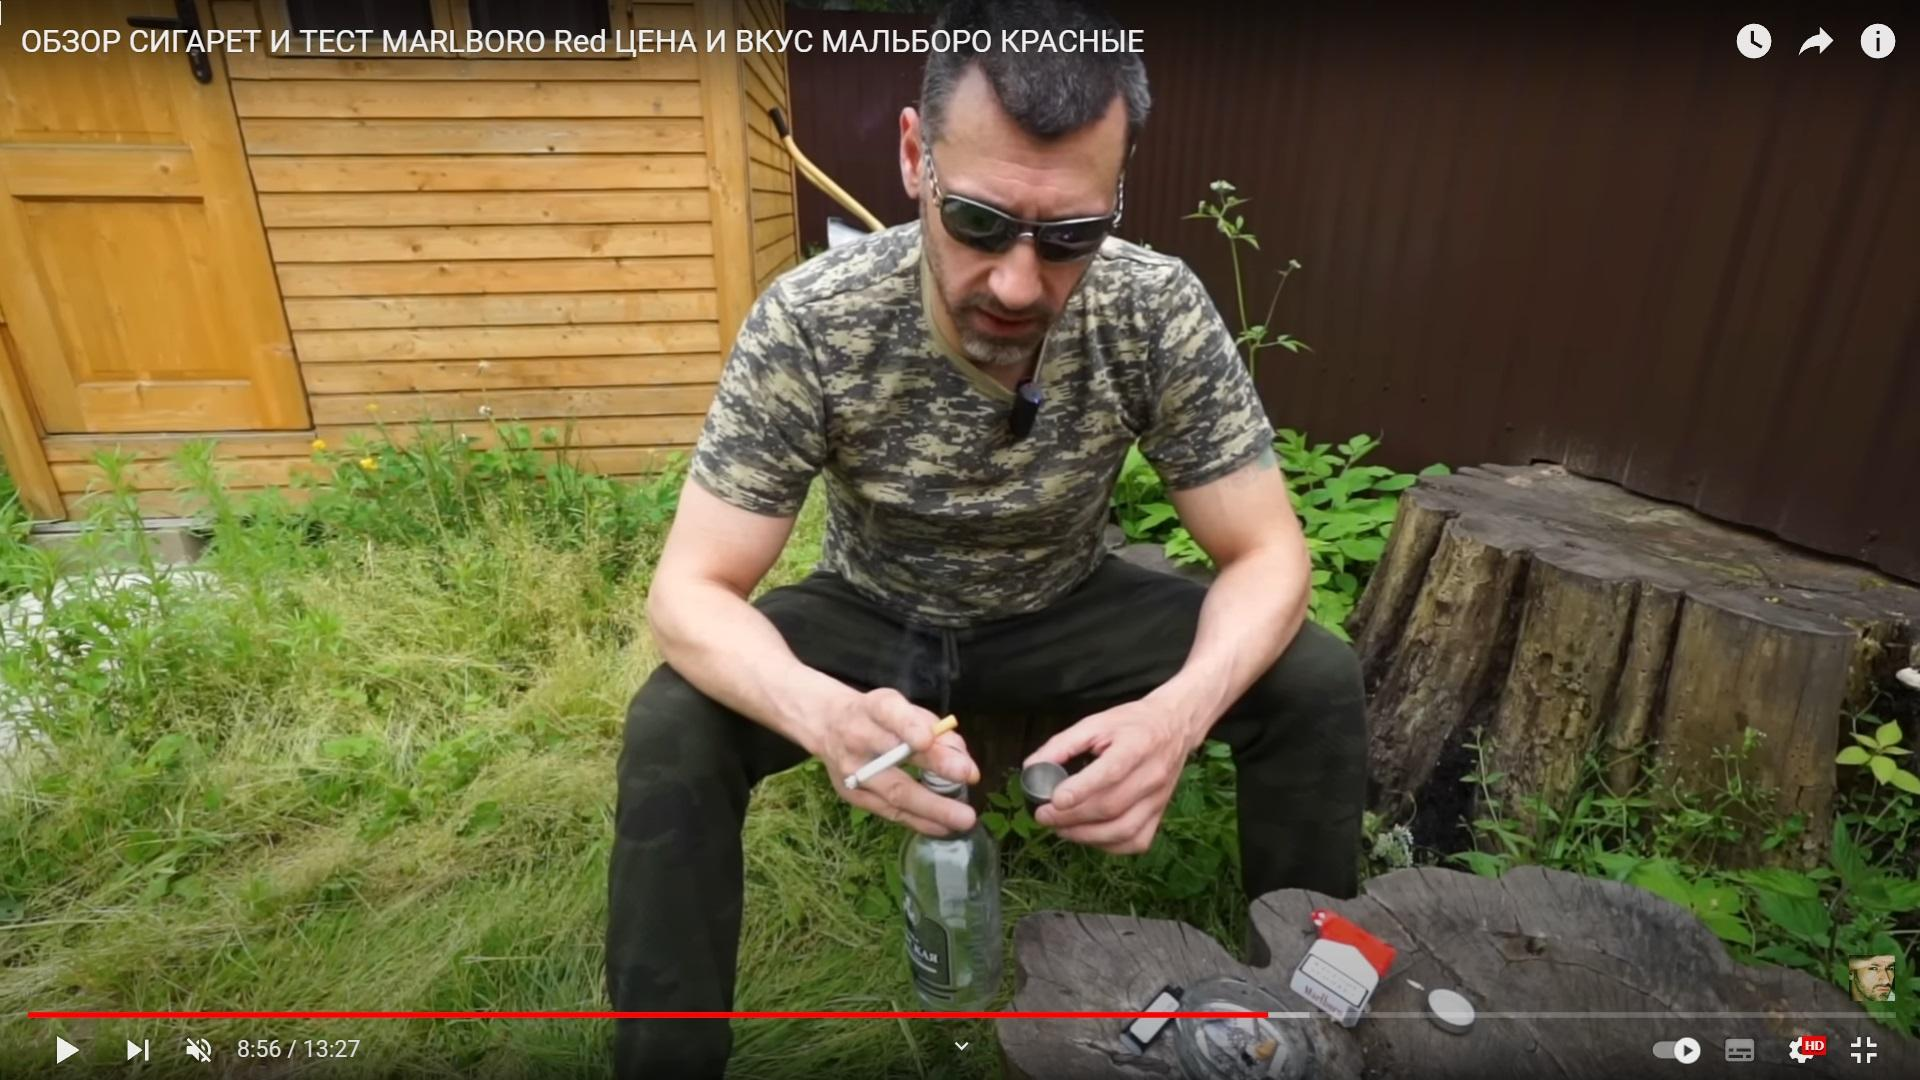cigarette: (844, 713, 959, 790)
